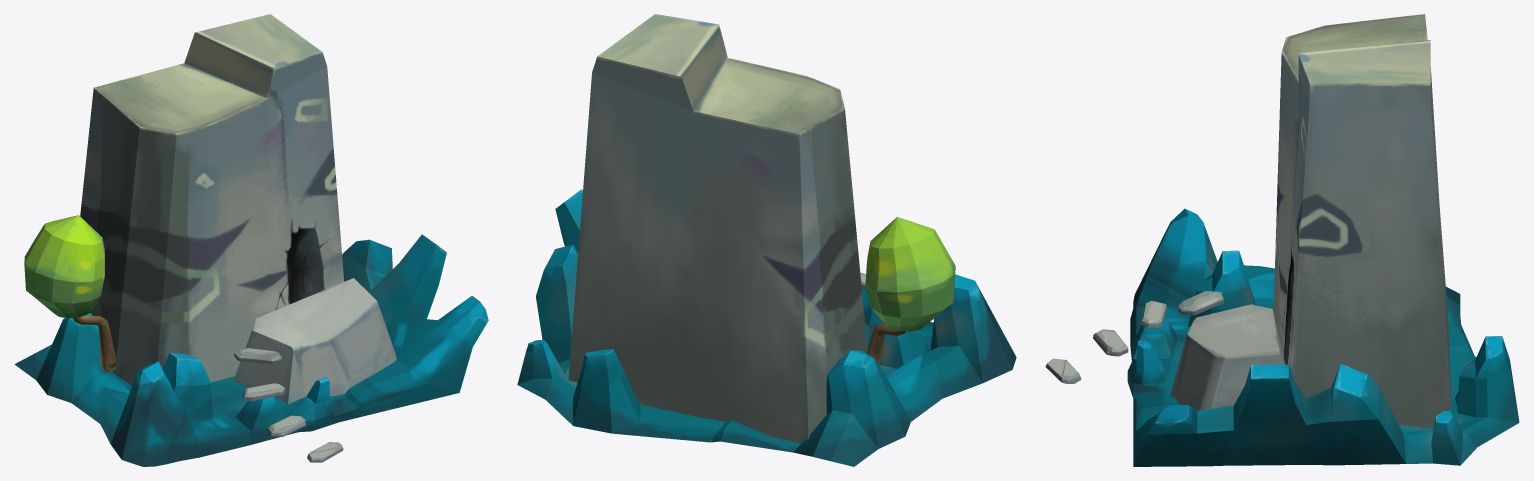
The model's file is shifang.FBX.
3 renders of one model, left to right at view 1: azimuth 30°, elevation 25°; view 2: azimuth 150°, elevation 25°; view 3: azimuth 270°, elevation 25°, orthographic. The views are drawn at different scales.
Visible parts, largest first — view 1: Box005; view 2: Box005; view 3: Box005.
Part boxes in pixels (<box>): Box005: <box>14,14,488,466</box>; Box005: <box>517,14,1016,466</box>; Box005: <box>1045,14,1519,466</box>.
Bounding box in the file's own units: 56.3 × 42.7 × 52.54.
Materials: 1 (1 with a texture image).
